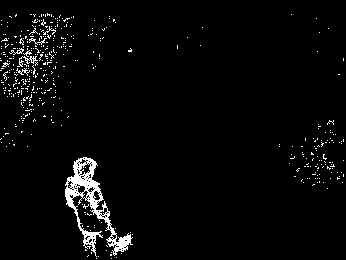person: (62, 156, 137, 259)
